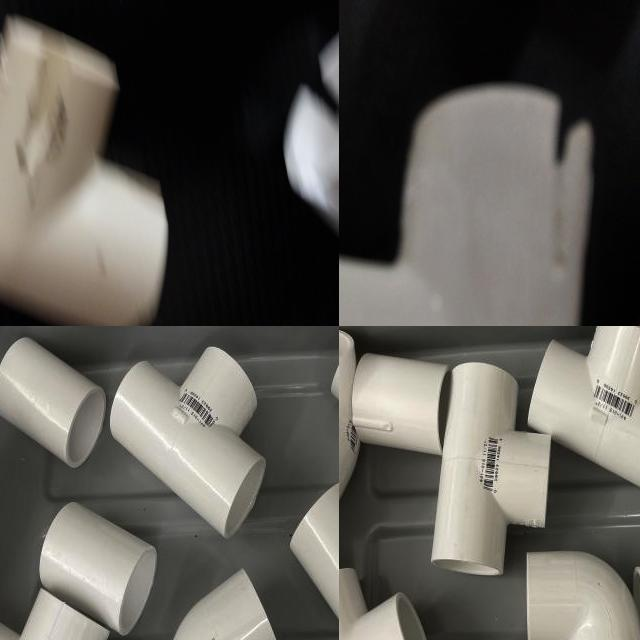L Joint: (0, 0, 87, 242), (525, 552, 640, 640), (171, 571, 278, 640), (339, 568, 428, 640)
T Joint: (110, 347, 267, 540), (431, 362, 552, 578), (527, 326, 640, 489)
